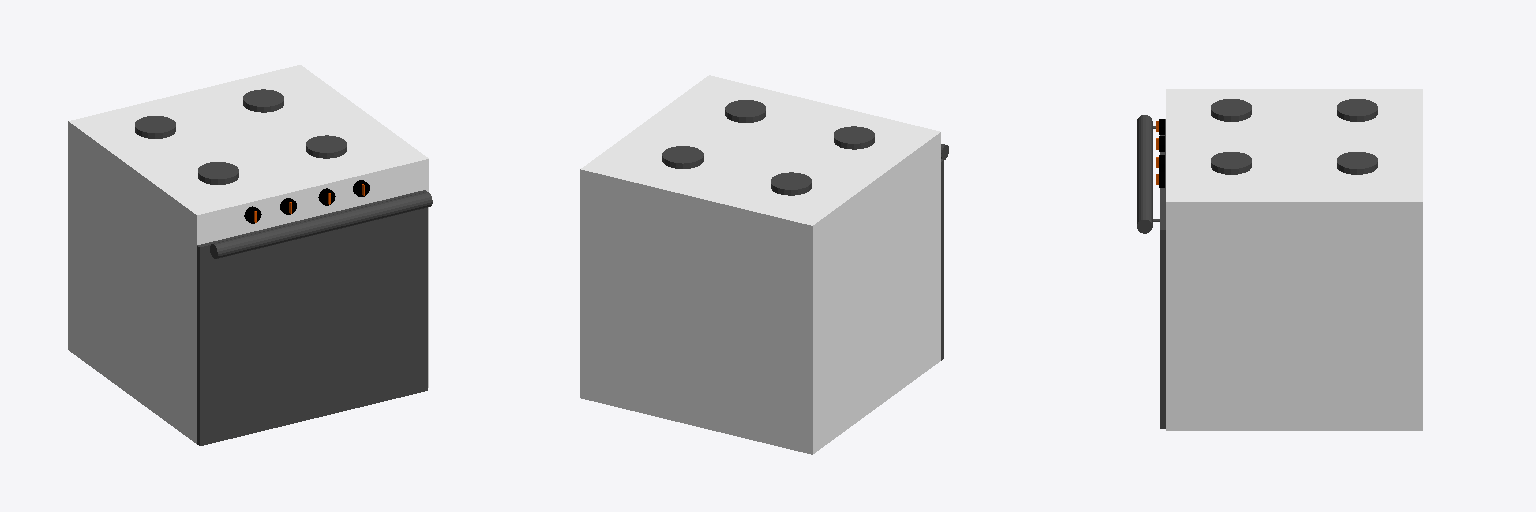
The model's file is cooker.obj.
3 views of the same model, side by side, from view 1: azimuth 30°, elevation 25°; view 2: azimuth 150°, elevation 25°; view 3: azimuth 270°, elevation 25° (orthographic).
Visible parts, largest first — view 1: Box001, Box004, Cylinder005, Cylinder003, Cylinder002, Cylinder004, Cylinder001; view 2: Box001, Cylinder004, Cylinder001, Cylinder002, Cylinder003, Box004; view 3: Box001, Cylinder005, Box004, Cylinder001, Cylinder002, Cylinder003, Cylinder004.
Part boxes in pixels (x1,y1,x2,y2): Box001: (68, 65, 428, 443); Box004: (197, 190, 427, 445); Cylinder005: (210, 192, 432, 258); Cylinder003: (135, 116, 175, 138); Cylinder002: (198, 162, 238, 184); Cylinder004: (243, 89, 283, 112); Cylinder001: (306, 135, 346, 158); Box001: (580, 75, 940, 454); Cylinder004: (662, 146, 703, 168); Cylinder001: (725, 100, 765, 122); Cylinder002: (834, 126, 874, 149); Cylinder003: (771, 172, 811, 195); Box004: (941, 159, 943, 360); Box001: (1166, 89, 1422, 430); Cylinder005: (1137, 115, 1152, 233); Box004: (1160, 119, 1165, 428); Cylinder001: (1211, 152, 1251, 174); Cylinder002: (1211, 99, 1251, 121); Cylinder003: (1337, 99, 1377, 121); Cylinder004: (1337, 152, 1377, 174).
Bounding box in the file's own units: 42.88 × 41.73 × 45.75.